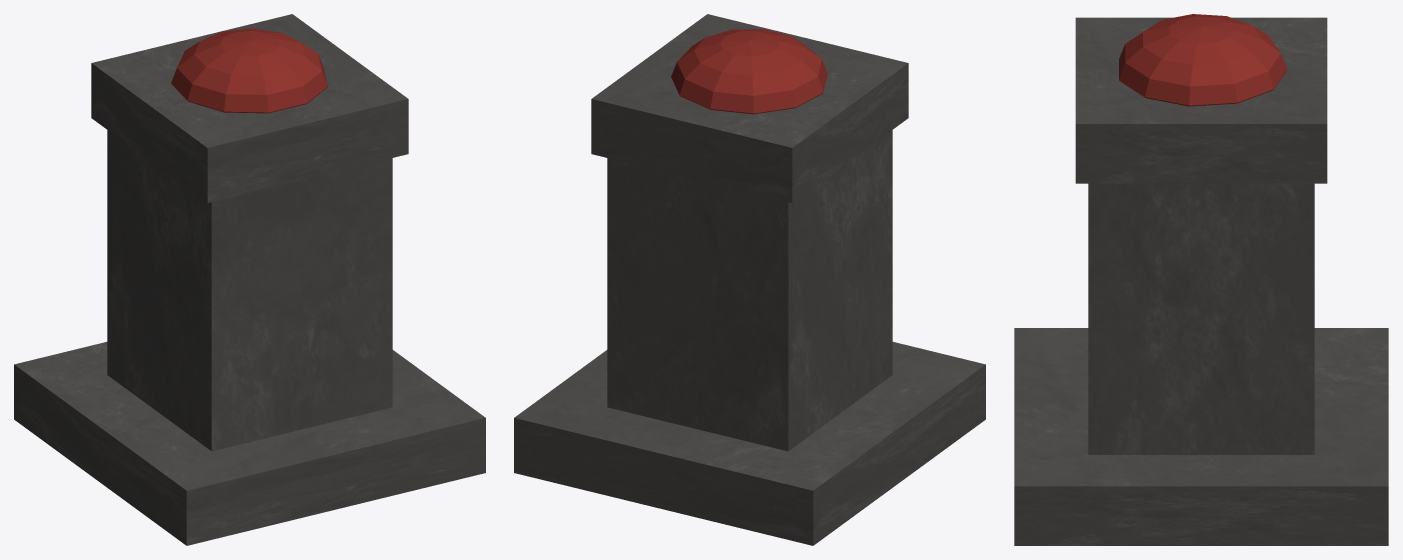
Rendered from button.fbx.
3 renders of one model, left to right at view 1: azimuth 30°, elevation 25°; view 2: azimuth 150°, elevation 25°; view 3: azimuth 270°, elevation 25°, orthographic. The views are drawn at different scales.
Parts seen in each view (by area): view 1: Cube, Cube.001, Cube.002, Sphere; view 2: Cube, Cube.001, Cube.002, Sphere; view 3: Cube, Cube.001, Cube.002, Sphere.
Boxes of the visible parts, x1=… form: Cube: x1=107, y1=130, x2=392, y2=451; Cube.001: x1=14, y1=342, x2=485, y2=545; Cube.002: x1=91, y1=14, x2=408, y2=202; Sphere: x1=171, y1=28, x2=327, y2=113; Cube: x1=607, y1=130, x2=892, y2=451; Cube.001: x1=514, y1=342, x2=985, y2=545; Cube.002: x1=591, y1=14, x2=908, y2=202; Sphere: x1=671, y1=29, x2=827, y2=114; Cube: x1=1088, y1=183, x2=1314, y2=454; Cube.001: x1=1014, y1=328, x2=1388, y2=545; Cube.002: x1=1075, y1=17, x2=1327, y2=183; Sphere: x1=1119, y1=14, x2=1287, y2=106.
Size of the model in its own units: 435 by 564 by 435.
